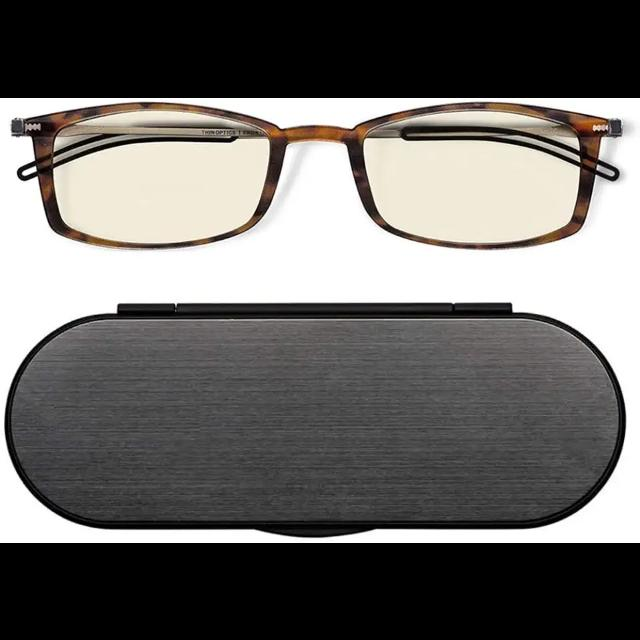glasses: (4, 98, 628, 258)
